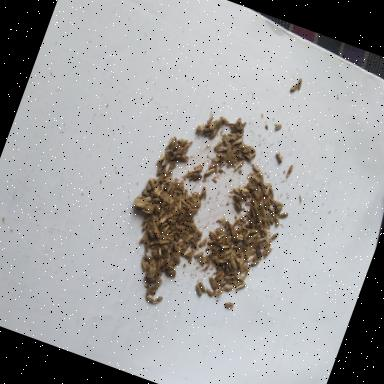pbw: (206, 108, 217, 126), (204, 165, 218, 179), (212, 138, 224, 154), (206, 277, 219, 291), (155, 277, 167, 292), (152, 272, 162, 289), (249, 204, 262, 217), (246, 206, 258, 220), (138, 259, 150, 273), (268, 230, 280, 244), (158, 212, 170, 226), (153, 244, 164, 259), (239, 262, 249, 278), (261, 242, 271, 258), (232, 117, 242, 133), (140, 212, 150, 228), (156, 182, 166, 198), (224, 142, 234, 158), (166, 194, 176, 210), (228, 257, 240, 270), (152, 294, 164, 307), (191, 164, 204, 176), (218, 115, 232, 126), (231, 216, 242, 230), (141, 240, 152, 254), (271, 214, 282, 228), (215, 234, 226, 248), (234, 158, 244, 173), (214, 118, 224, 133), (216, 144, 228, 156), (146, 177, 158, 189), (193, 284, 205, 296), (183, 246, 195, 258), (196, 280, 208, 292), (166, 266, 178, 278), (198, 236, 209, 249), (261, 238, 272, 251), (166, 180, 176, 194), (290, 80, 300, 94), (208, 118, 218, 132), (208, 160, 219, 172), (208, 129, 219, 141), (262, 196, 274, 207), (195, 121, 206, 133), (236, 280, 247, 292), (225, 252, 236, 264), (151, 226, 162, 238), (272, 199, 285, 209), (182, 188, 192, 201), (200, 186, 210, 199), (212, 276, 222, 289), (150, 215, 160, 228), (263, 246, 272, 260), (204, 258, 213, 272), (176, 198, 185, 212), (295, 76, 304, 90), (155, 258, 164, 272), (286, 164, 294, 179), (264, 215, 276, 225), (159, 236, 171, 246), (142, 194, 154, 204), (246, 252, 256, 264), (250, 164, 262, 174), (248, 218, 258, 230), (252, 252, 262, 264), (190, 171, 202, 181), (247, 246, 257, 258), (148, 284, 158, 296), (268, 185, 278, 197), (249, 198, 261, 208), (254, 198, 264, 210), (174, 150, 184, 162), (158, 151, 167, 164), (238, 260, 246, 274), (243, 228, 251, 242), (243, 266, 251, 280), (142, 218, 150, 232), (238, 255, 246, 269), (198, 188, 206, 202), (168, 184, 176, 198), (233, 201, 243, 212), (148, 238, 158, 249), (250, 174, 261, 184), (224, 300, 235, 310), (194, 249, 204, 260), (226, 278, 237, 288), (184, 138, 194, 149), (278, 210, 289, 220), (246, 152, 257, 162), (271, 206, 282, 216), (246, 145, 257, 155), (216, 231, 226, 242), (225, 284, 236, 294), (220, 134, 231, 144), (256, 245, 266, 256), (146, 228, 157, 238), (177, 137, 189, 146), (245, 235, 254, 247), (140, 189, 152, 198), (254, 243, 262, 256), (264, 183, 272, 196), (177, 210, 185, 223), (162, 224, 170, 237), (204, 288, 214, 298), (204, 242, 214, 252), (250, 259, 260, 269), (160, 264, 170, 274), (268, 212, 278, 222), (162, 175, 172, 185), (234, 279, 244, 289), (258, 234, 268, 244), (227, 268, 237, 278), (266, 194, 276, 204), (190, 240, 200, 250), (273, 122, 283, 132), (208, 230, 218, 240), (207, 237, 218, 246), (213, 288, 224, 297), (232, 242, 243, 251), (261, 226, 270, 237), (224, 273, 235, 282), (186, 212, 195, 223), (259, 208, 268, 219), (163, 154, 170, 168), (234, 274, 246, 282), (216, 268, 224, 280), (152, 252, 164, 260), (219, 154, 227, 166), (232, 130, 240, 142), (258, 172, 266, 184), (236, 233, 246, 242), (258, 184, 268, 193), (172, 233, 181, 243), (171, 136, 180, 146), (204, 251, 213, 261), (185, 234, 194, 244), (231, 186, 242, 194), (259, 238, 267, 249), (252, 238, 260, 249), (144, 295, 155, 303), (240, 186, 251, 194), (238, 201, 246, 212), (247, 185, 258, 193), (258, 200, 266, 211), (145, 285, 152, 297), (195, 228, 204, 237), (192, 235, 201, 244), (218, 284, 227, 293), (234, 138, 244, 146), (214, 226, 224, 234), (152, 196, 162, 204), (266, 206, 276, 214), (250, 228, 260, 236), (180, 154, 190, 162), (252, 230, 260, 240), (210, 247, 220, 255), (154, 204, 162, 214), (212, 156, 222, 164), (243, 249, 251, 259), (158, 234, 168, 242), (176, 224, 186, 232), (188, 207, 199, 214), (239, 120, 247, 129), (259, 216, 268, 224), (170, 144, 178, 153), (256, 186, 264, 195), (236, 226, 245, 234), (162, 244, 171, 252), (234, 248, 243, 256), (218, 272, 225, 282), (158, 207, 164, 218), (264, 180, 272, 188), (219, 279, 227, 287), (234, 255, 242, 263), (226, 262, 234, 270), (172, 178, 180, 186), (233, 194, 242, 201), (161, 258, 167, 268), (242, 152, 252, 158), (259, 230, 266, 238), (237, 132, 244, 140), (222, 243, 230, 250), (160, 200, 168, 207), (168, 218, 176, 225), (216, 152, 224, 159), (190, 224, 198, 231), (276, 206, 283, 213), (176, 240, 183, 247), (241, 240, 247, 248), (264, 204, 270, 212), (186, 254, 192, 262), (240, 218, 247, 224), (262, 196, 266, 203)
